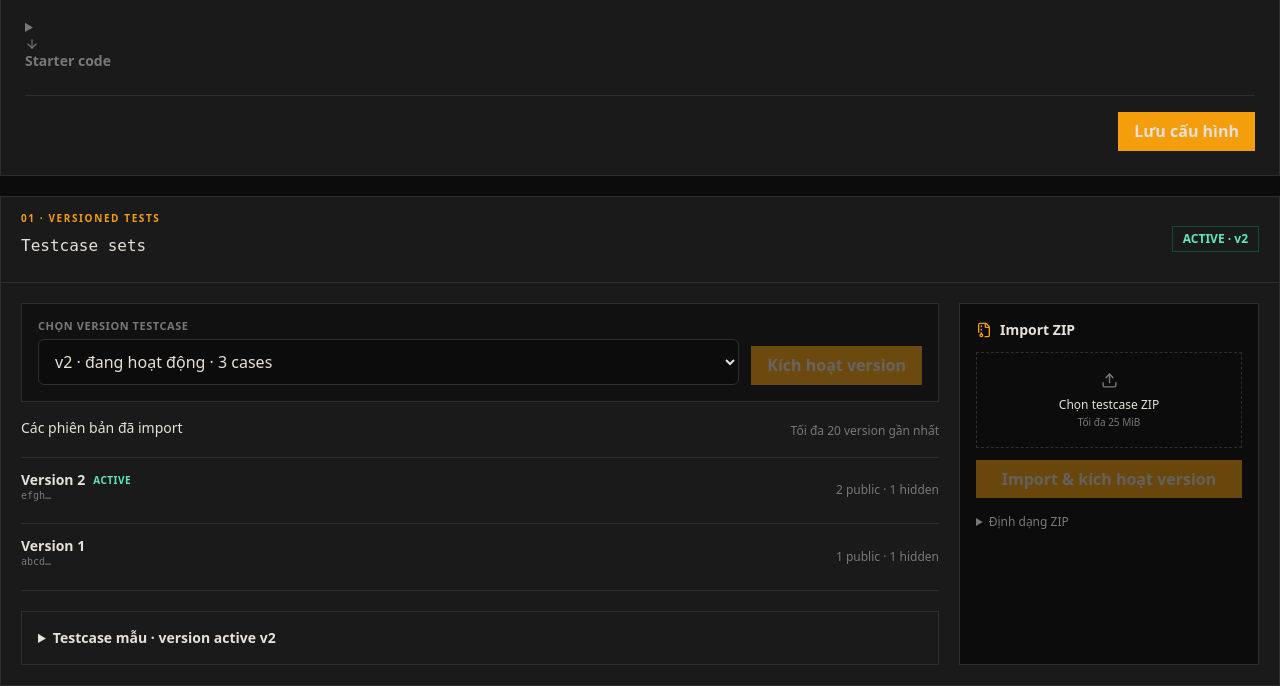
Test: AdminProblemsTab testcase sample loading › waits for the sample disclosure before fetching testcase input and output
This screenshot has width=1280, height=686.
(page scrolled)
Expected: the text "ACTIVE · v2" is shown, x1=1172 y1=226 x2=1259 y2=252
Click the heading "Testcase mẫu · version active v2": (164, 637) x1=53 y1=628 x2=276 y2=647
(page scrolled)
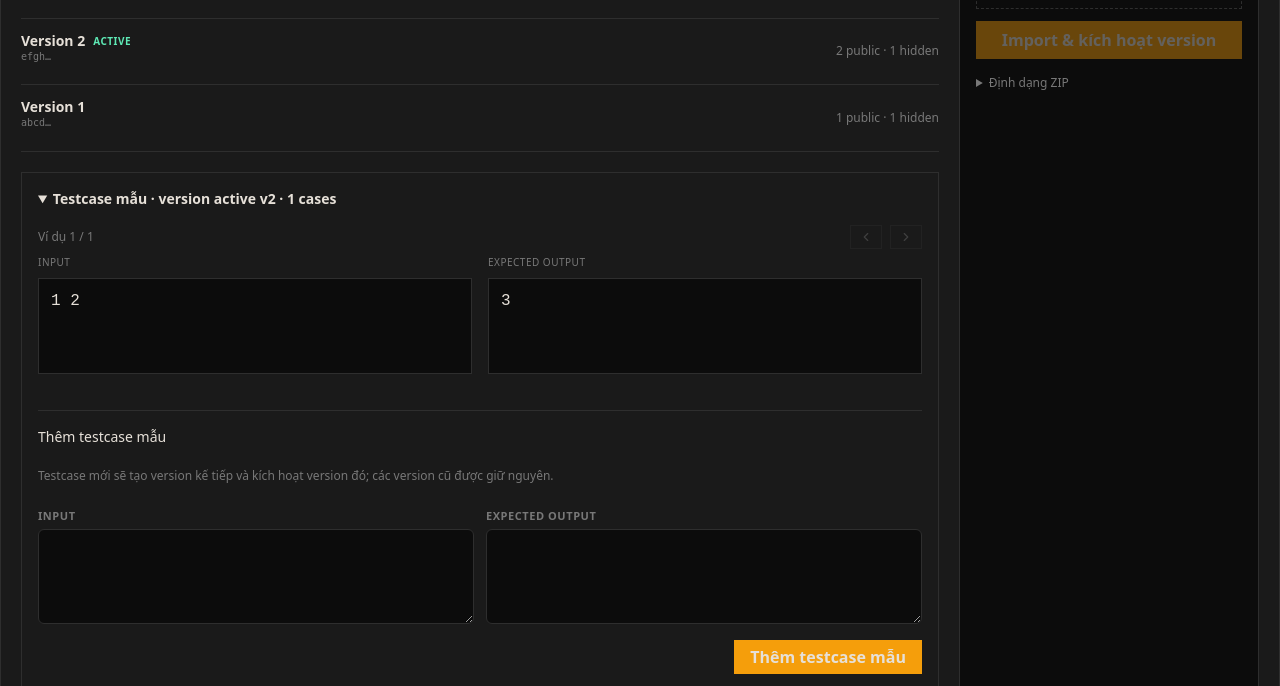
Result: the text "1 2" is shown at x1=38 y1=278 x2=472 y2=374
